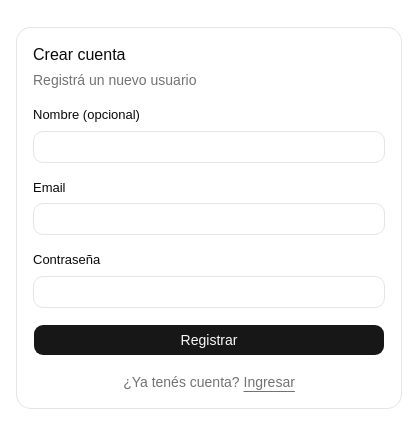
Test: Register page › shows the server message for a password issue when local rules all pass
Type "x@x.com" into the field labelled "Email" at [209, 219], box [33,203,385,235]
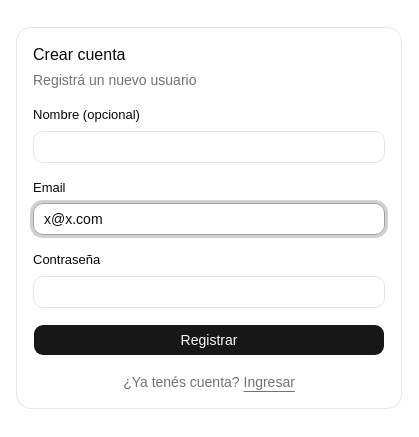
Type "ValidPassword1" into the password field labelled "Contraseña" at [209, 292], box [33,276,385,308]
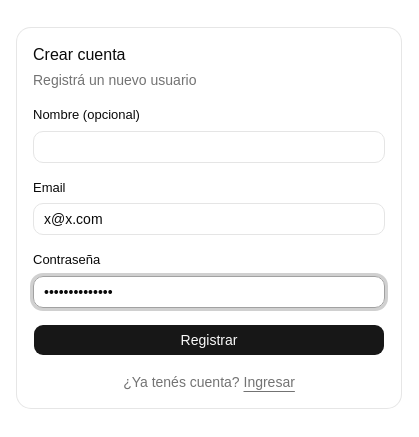
Click the button "Registrar" at [209, 340], box [33,324,385,356]
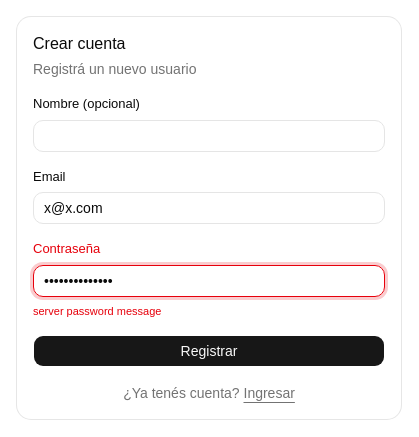
Check: the text "server password message" is shown, box [33,303,161,319]
